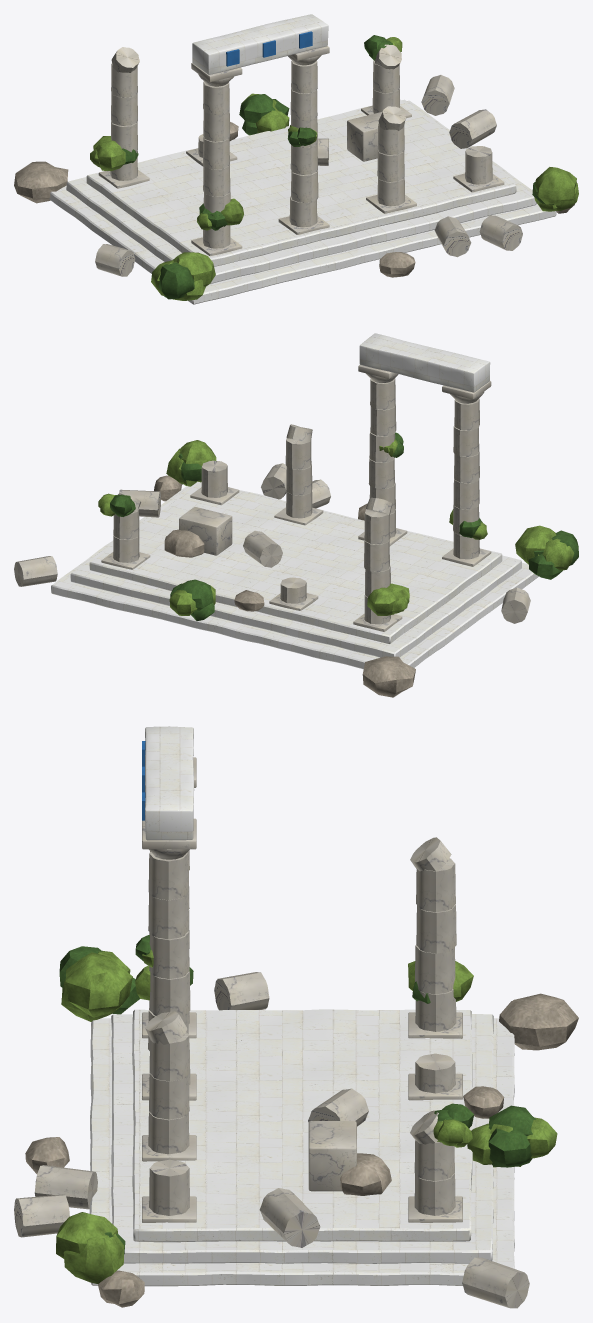
File: country_ruin_temple.glb
3 renders of one model, top to bottom at view 1: azimuth 30°, elevation 25°; view 2: azimuth 150°, elevation 25°; view 3: azimuth 270°, elevation 25°, orthographic. The views are drawn at different scales.
Visible parts, largest first — view 1: hall, marble, leaf, leaf_dark, rock.005, paint_azure; view 2: hall, marble, leaf, rock.005, leaf_dark; view 3: hall, marble, leaf, rock.005, leaf_dark.
Boxes of the visible parts, bbox=[...] form: hall: bbox=[49, 14, 556, 304]; marble: bbox=[95, 44, 522, 276]; leaf: bbox=[90, 37, 578, 300]; leaf_dark: bbox=[122, 35, 553, 299]; rock.005: bbox=[14, 122, 574, 277]; paint_azure: bbox=[226, 31, 312, 66]; hall: bbox=[51, 333, 538, 669]; marble: bbox=[14, 365, 530, 631]; leaf: bbox=[98, 439, 574, 615]; rock.005: bbox=[154, 475, 415, 697]; leaf_dark: bbox=[110, 432, 578, 620]; hall: bbox=[89, 726, 514, 1286]; marble: bbox=[14, 757, 529, 1308]; leaf: bbox=[56, 950, 557, 1283]; rock.005: bbox=[25, 993, 578, 1307]; leaf_dark: bbox=[59, 935, 536, 1254].
Size of the model in its own units: 12.28 by 6.25 by 9.34.
Materials: 6 (6 with a texture image).
